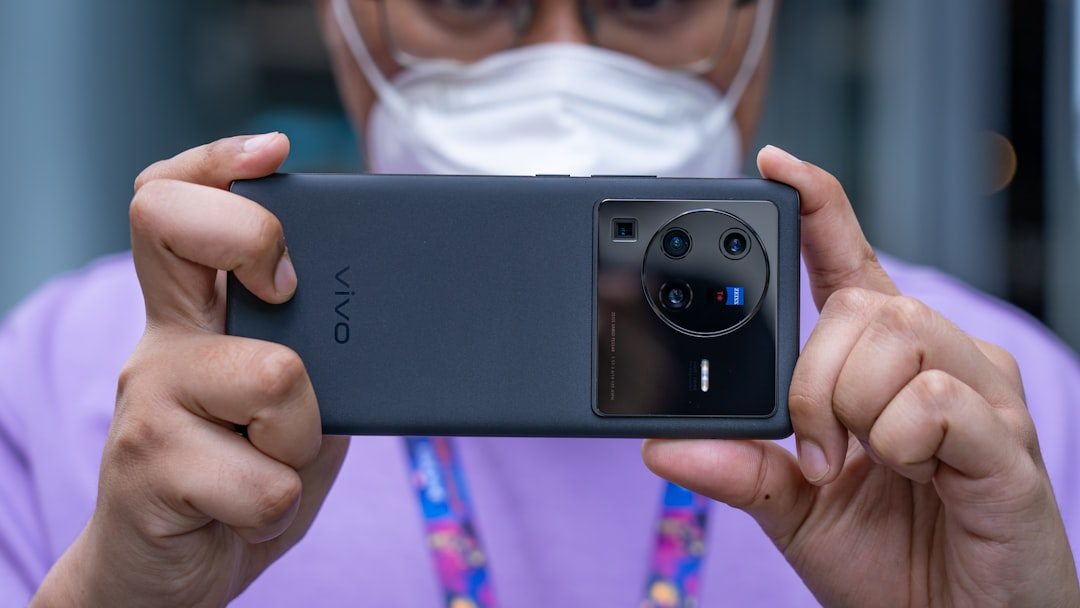phone: (225, 169, 802, 439)
